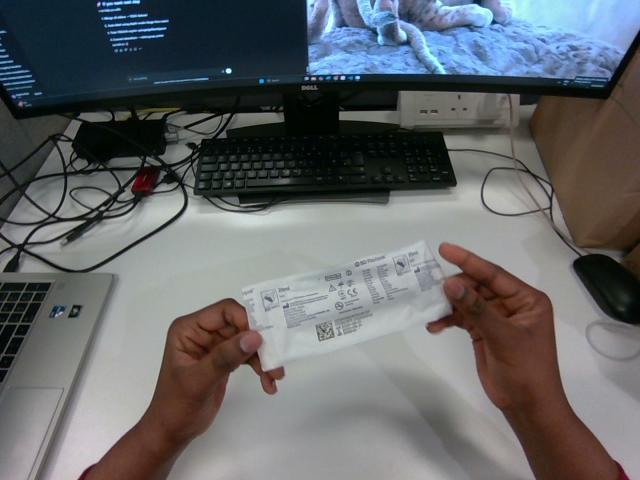syringe: (242, 241, 451, 370)
